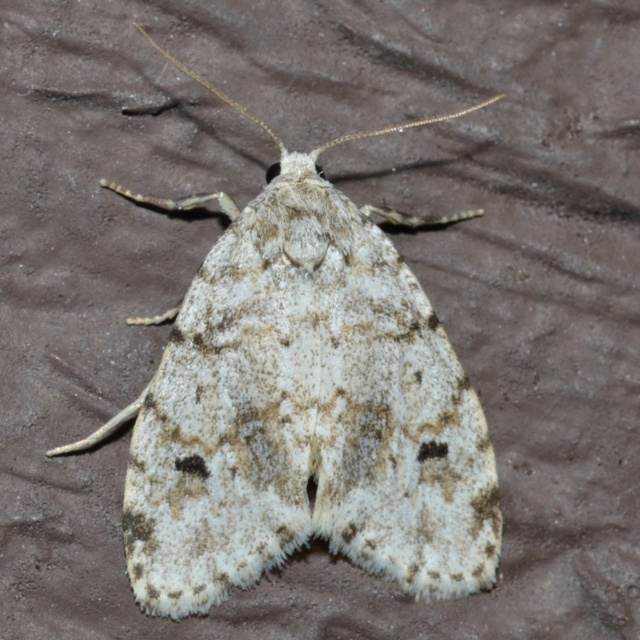Moths and butterflies: (43, 24, 514, 619)
